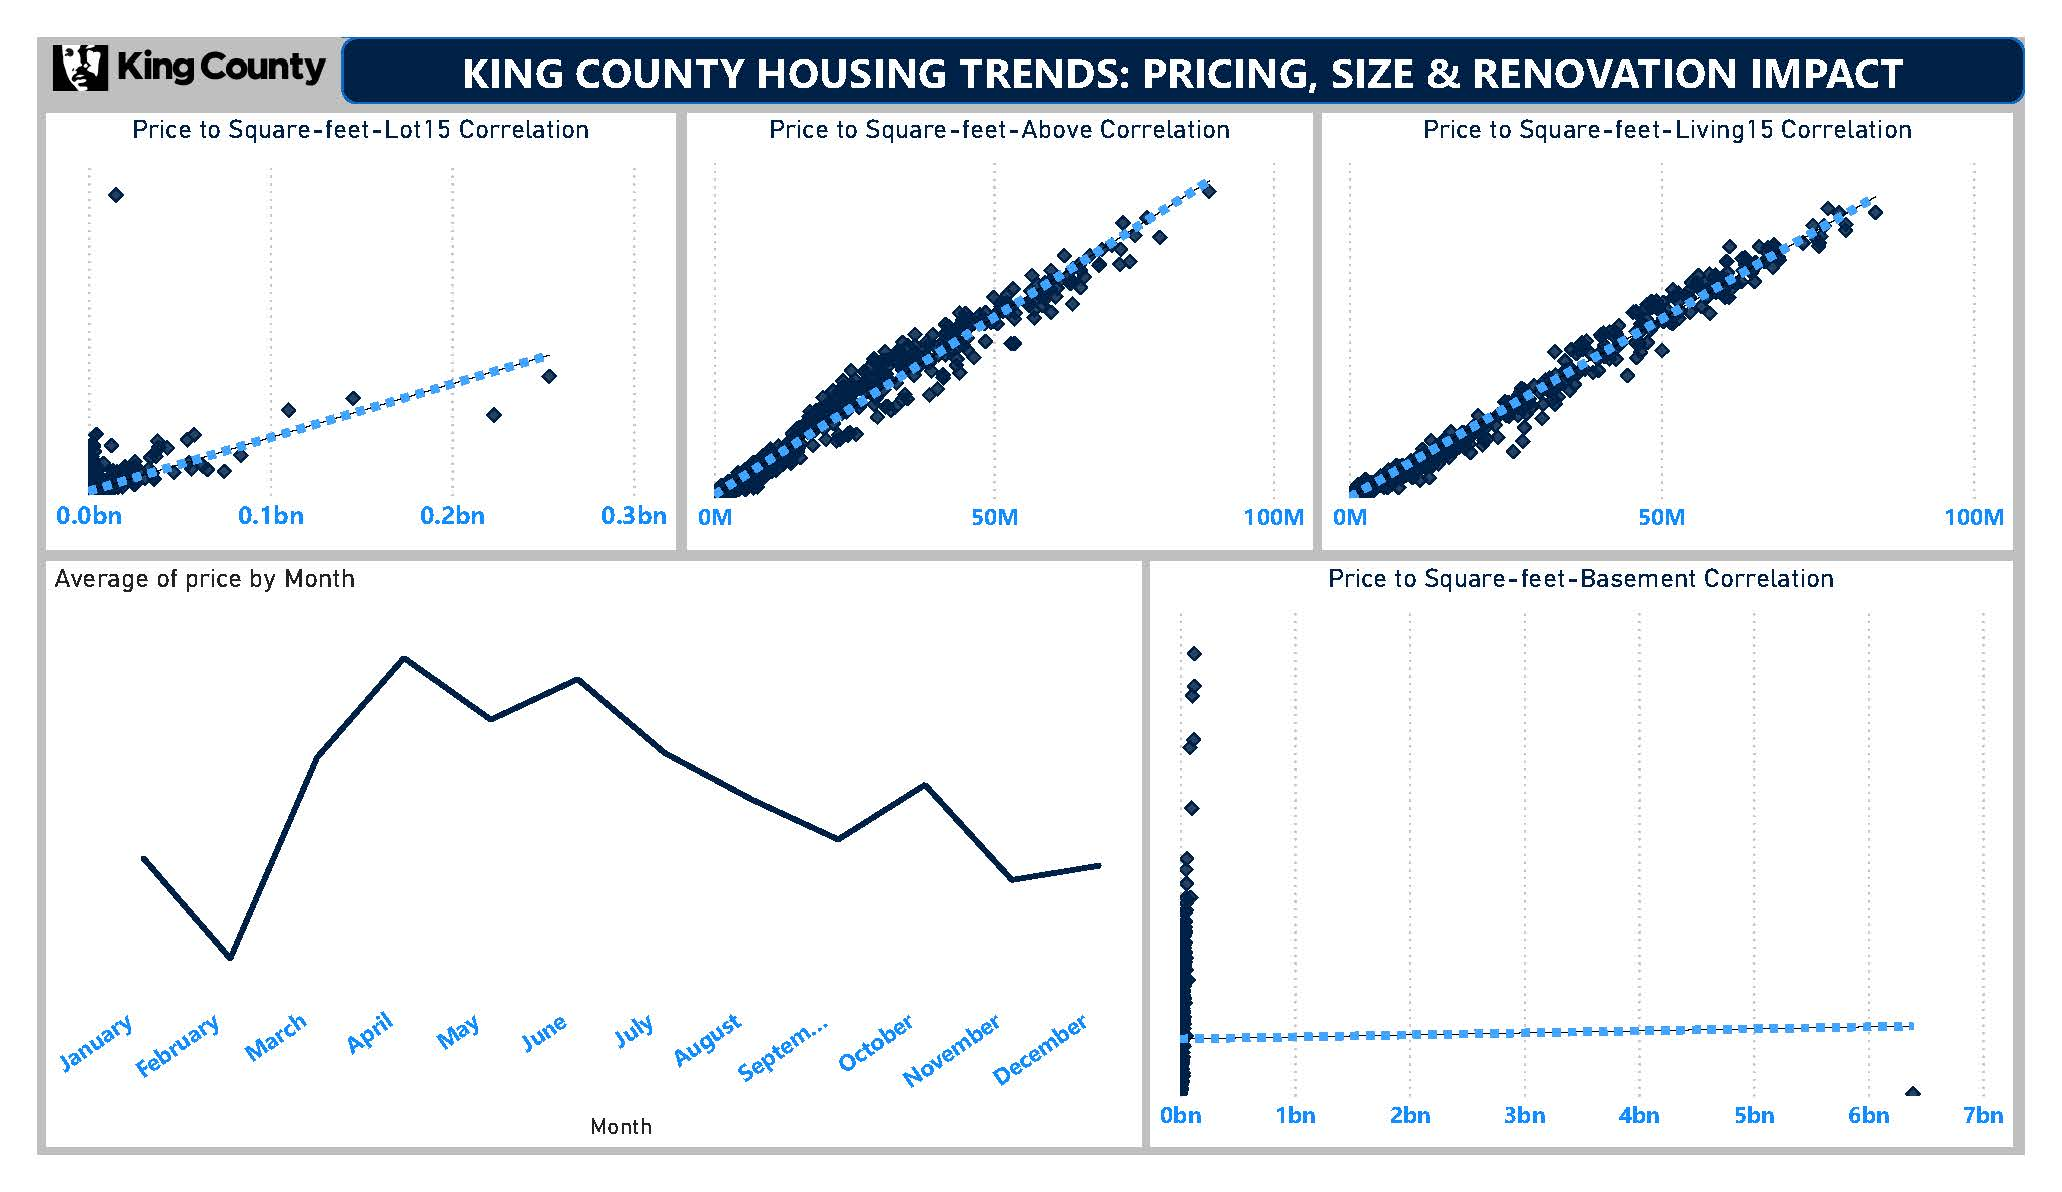

The page's visual inventory and layout, read from the dashboard file:
{"tool":"powerbi","page":{"name":"Duplicate of Duplicate of Page 1","canvas":[1280,720],"ordinal":2},"visuals":[{"type":"scatterChart","title":"Price to Square-feet-Above Correlation","fields":{"X":["Sum(KC Cleaned.price)"],"Y":["Sum(KC Cleaned.sqft_above)"],"Category":["KC Cleaned.sqft_above"]},"box":[419.1,48.9,402.1,280.9],"z":0},{"type":"scatterChart","title":"Price to Square-feet-Basement Correlation","fields":{"X":["Sum(KC Cleaned.price)"],"Y":["Sum(KC Cleaned.sqft_basement)"],"Category":["KC Cleaned.sqft_basement"]},"box":[716.9,338.5,555.4,376.9],"z":1000},{"type":"scatterChart","title":"Price to Square-feet-Lot15 Correlation","fields":{"X":["Sum(KC Cleaned.price)"],"Y":["Sum(KC Cleaned.sqft_lot15)"],"Category":["KC Cleaned.sqft_lot15"]},"box":[6.4,48.9,404.3,280.9],"z":2000},{"type":"scatterChart","title":"Price to Square-feet-Living15 Correlation","fields":{"X":["Sum(KC Cleaned.price)"],"Y":["Sum(KC Cleaned.sqft_living15)"],"Category":["KC Cleaned.sqft_living15"]},"box":[827.7,48.9,444.7,280.9],"z":3000},{"type":"lineChart","fields":{"Category":["KC Cleaned.date.Variation.Date Hierarchy.Month"],"Y":["Avg(KC Cleaned.price)"]},"box":[6.4,338.3,704.3,376.6],"z":4000},{"type":"shape","box":[195.7,0,1084.3,42.9],"z":5000},{"type":"image","box":[0,0,195.7,38.6],"z":6000}]}

Visuals, with their boxes in screenshot pixels (x1, y1, x2, y2), scaled from the page's 1280x720 canvas onto the 2062x1192 screenshot:
"Price to Square-feet-Above Correlation" scatterChart: {"x1": 675, "y1": 81, "x2": 1323, "y2": 546}
"Price to Square-feet-Basement Correlation" scatterChart: {"x1": 1155, "y1": 560, "x2": 2050, "y2": 1184}
"Price to Square-feet-Lot15 Correlation" scatterChart: {"x1": 10, "y1": 81, "x2": 662, "y2": 546}
"Price to Square-feet-Living15 Correlation" scatterChart: {"x1": 1333, "y1": 81, "x2": 2050, "y2": 546}
lineChart - KC Cleaned.date.Variation.Date Hierarchy.Month x Avg(KC Cleaned.price): {"x1": 10, "y1": 560, "x2": 1145, "y2": 1184}
shape: {"x1": 315, "y1": 0, "x2": 2061, "y2": 71}
image: {"x1": 0, "y1": 0, "x2": 315, "y2": 64}
